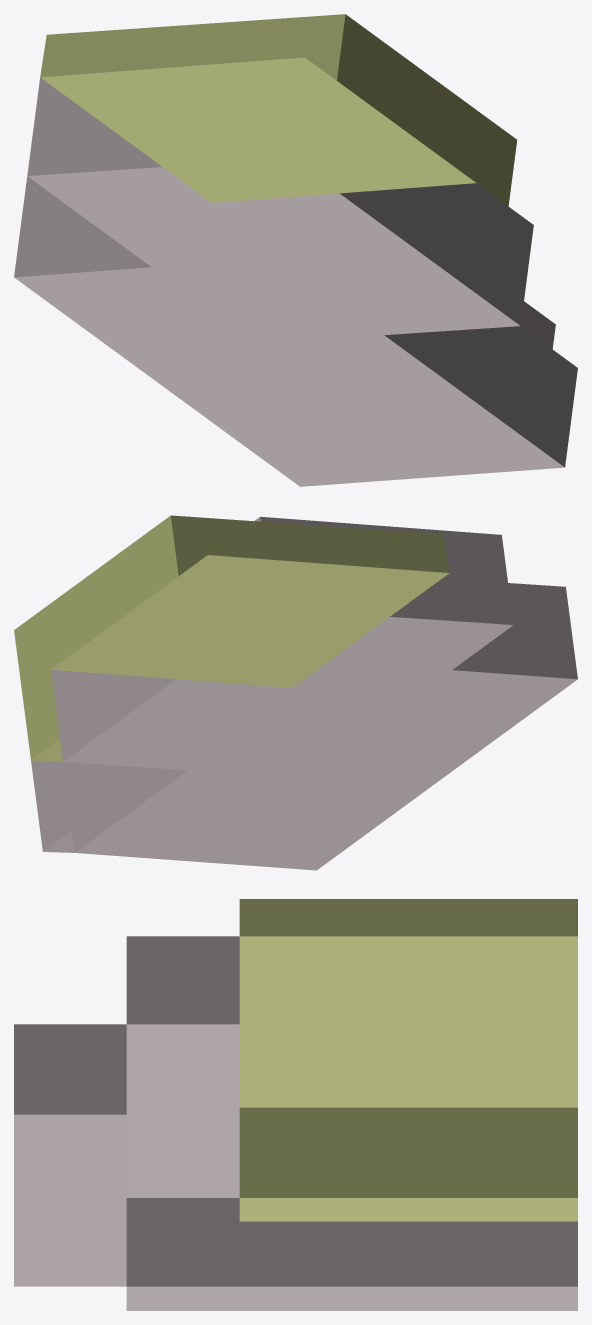
3 renders of one model, top to bottom at view 1: azimuth 30°, elevation 25°; view 2: azimuth 150°, elevation 25°; view 3: azimuth 270°, elevation 25°, orthographic. The views are drawn at different scales.
Parts seen in each view (by area): view 1: 0_2_1_0_0_0_0_0_0_1_3; view 2: 0_2_1_0_0_0_0_0_0_1_3; view 3: 0_2_1_0_0_0_0_0_0_1_3.
Boxes of the visible parts, x1,y1,x2,y2 form: 0_2_1_0_0_0_0_0_0_1_3: (14,14,577,486); 0_2_1_0_0_0_0_0_0_1_3: (14,515,577,870); 0_2_1_0_0_0_0_0_0_1_3: (14,899,577,1310).
Size of the model in its own units: 10.03 by 8.31 by 15.
